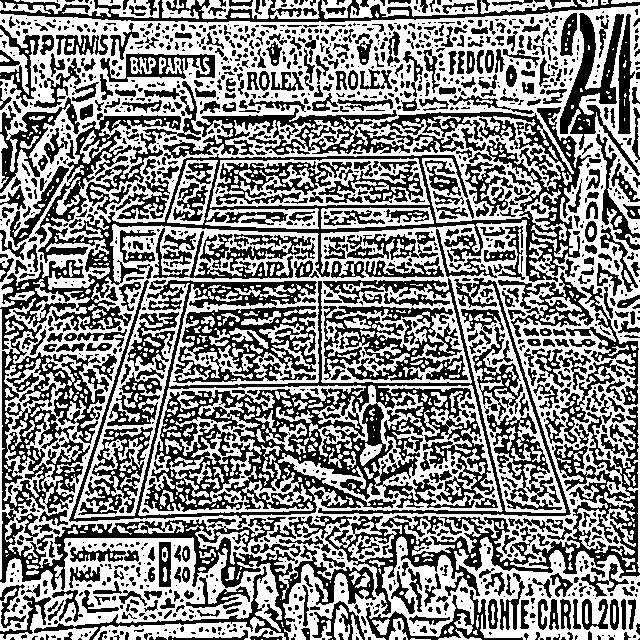left side: (420, 156, 570, 514), (71, 159, 219, 520)
player: (352, 382, 390, 502), (176, 77, 208, 140)
